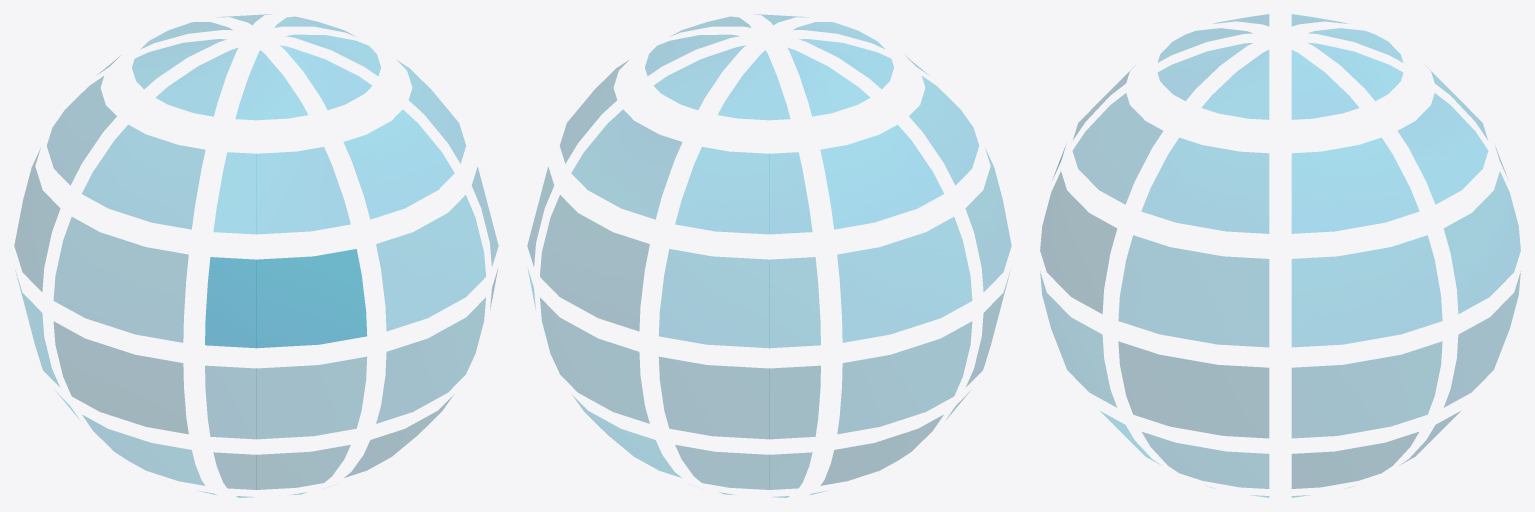
The model's file is JustSphere.gltf.
3 views of the same model, side by side, from view 1: azimuth 30°, elevation 25°; view 2: azimuth 150°, elevation 25°; view 3: azimuth 270°, elevation 25° (orthographic).
Parts seen in each view (by area): view 1: Object; view 2: Object; view 3: Object.
Part boxes in pixels (x1,y1,x2,y2): Object: (14, 14, 498, 497); Object: (527, 14, 1011, 497); Object: (1040, 14, 1520, 497).
Size of the model in its own units: 0.1079 by 0.1079 by 0.1079.
1 material, 1 textured.
